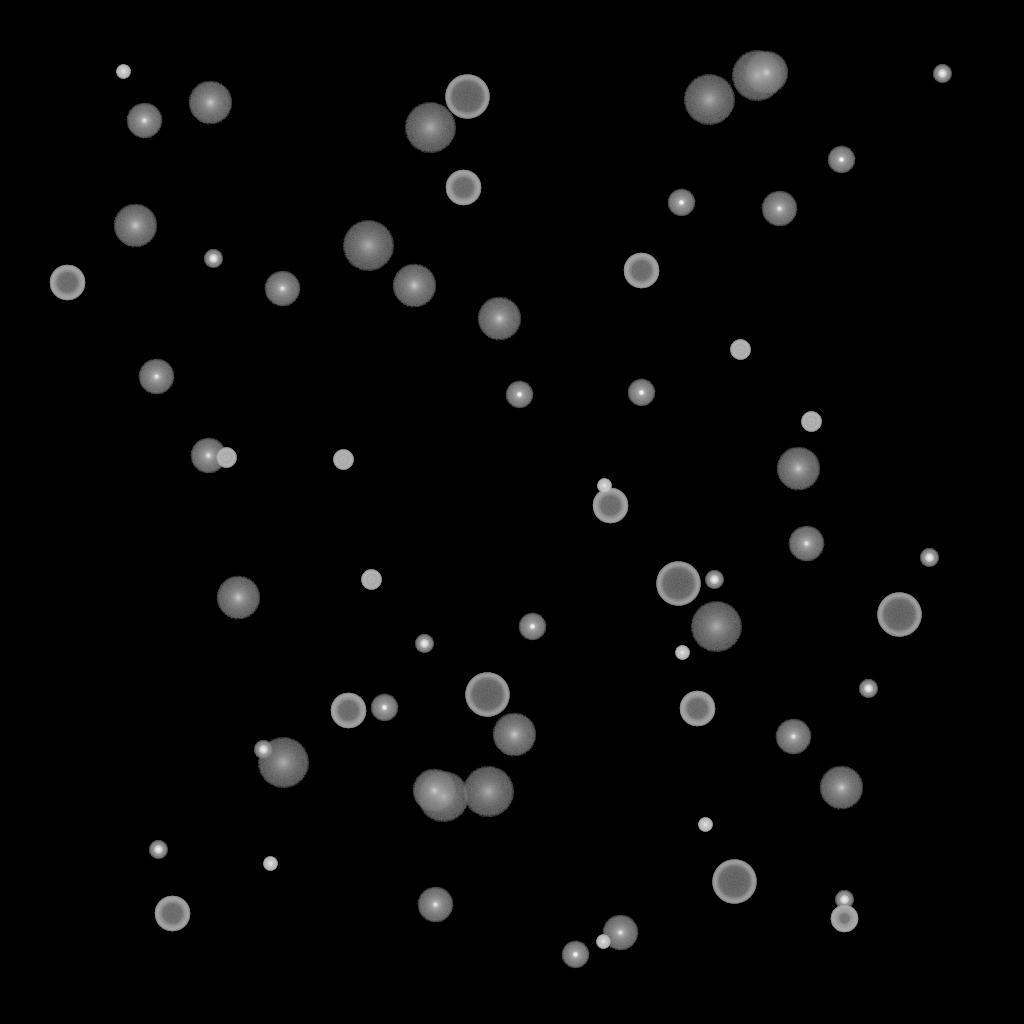depth:-10: (627, 379, 655, 407), (667, 189, 695, 217), (827, 146, 855, 174), (505, 381, 533, 409), (561, 941, 589, 969), (370, 694, 398, 722), (518, 613, 546, 641)
depth:-20: (149, 841, 167, 859), (835, 891, 853, 909), (415, 635, 433, 653), (933, 65, 951, 83), (920, 549, 938, 567), (204, 250, 222, 268), (705, 571, 723, 589), (859, 680, 877, 698), (254, 741, 272, 759)
depth:-30: (675, 646, 689, 660), (116, 65, 130, 79), (698, 818, 712, 832), (263, 857, 277, 871), (597, 479, 611, 493), (596, 935, 610, 949)
depth:-40: (333, 450, 353, 470), (730, 340, 750, 360), (216, 448, 236, 468), (361, 570, 381, 590), (801, 412, 821, 432)
depth:-50: (830, 905, 858, 933)
depth:-60: (623, 253, 659, 289), (592, 488, 628, 524), (330, 693, 366, 729), (679, 691, 715, 727), (49, 265, 85, 301), (154, 896, 190, 932), (445, 170, 481, 206)
depth:-70: (445, 75, 489, 119), (877, 593, 921, 637), (656, 562, 700, 606), (712, 860, 756, 904), (465, 673, 509, 717)
depth:0: (138, 359, 174, 395), (190, 438, 226, 474), (775, 719, 811, 755), (264, 271, 300, 307), (602, 915, 638, 951), (417, 887, 453, 923), (788, 526, 824, 562), (126, 103, 162, 139), (761, 191, 797, 227)
depth:10: (412, 769, 456, 813), (392, 264, 436, 308), (492, 713, 536, 757), (776, 447, 820, 491), (744, 51, 788, 95), (113, 204, 157, 248), (216, 576, 260, 620), (819, 766, 863, 810), (188, 81, 232, 125), (477, 297, 521, 341)
depth:20: (462, 767, 514, 817), (257, 738, 309, 788), (731, 51, 783, 101), (683, 75, 735, 125), (417, 772, 469, 822), (690, 602, 742, 652), (404, 103, 456, 153), (342, 221, 394, 271)
